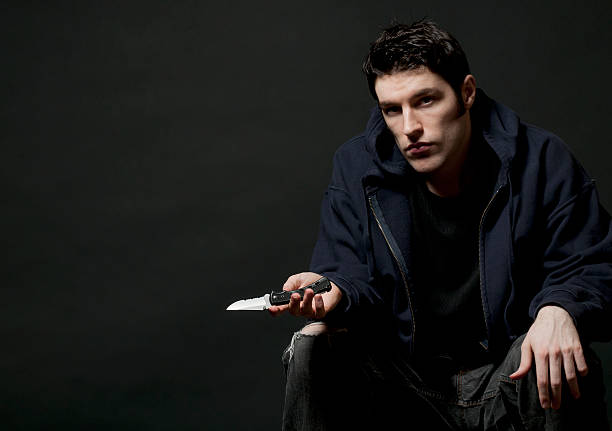knife: (225, 276, 333, 312)
